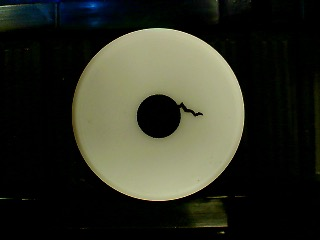CRACK: (70, 27, 245, 202)
